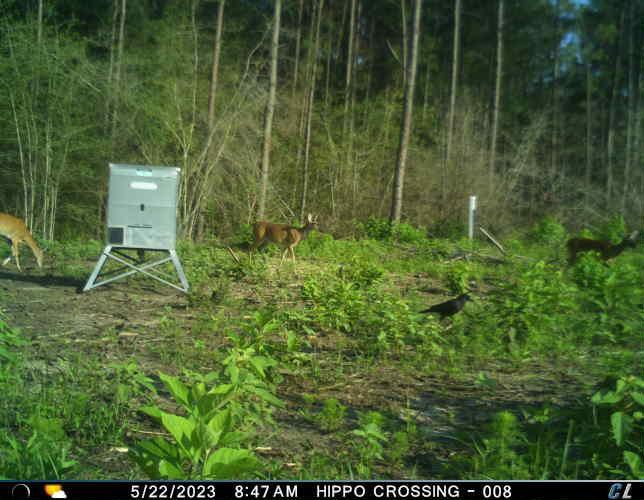Deer: (251, 211, 322, 270), (564, 228, 641, 279), (0, 210, 48, 276)
